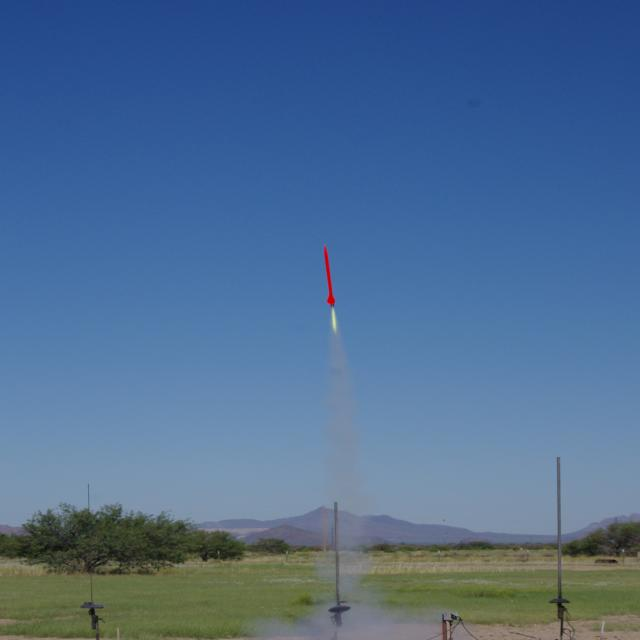Rocket: (323, 243, 337, 307)
